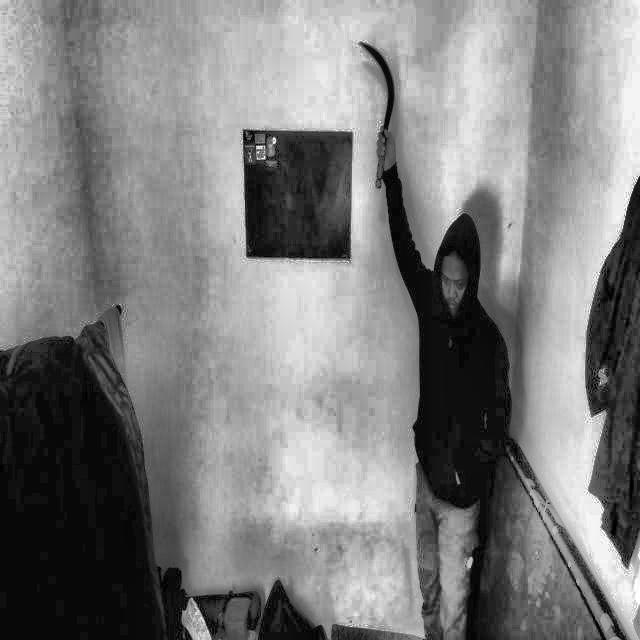celurit: (349, 26, 412, 199)
robbery: (358, 39, 548, 639)
